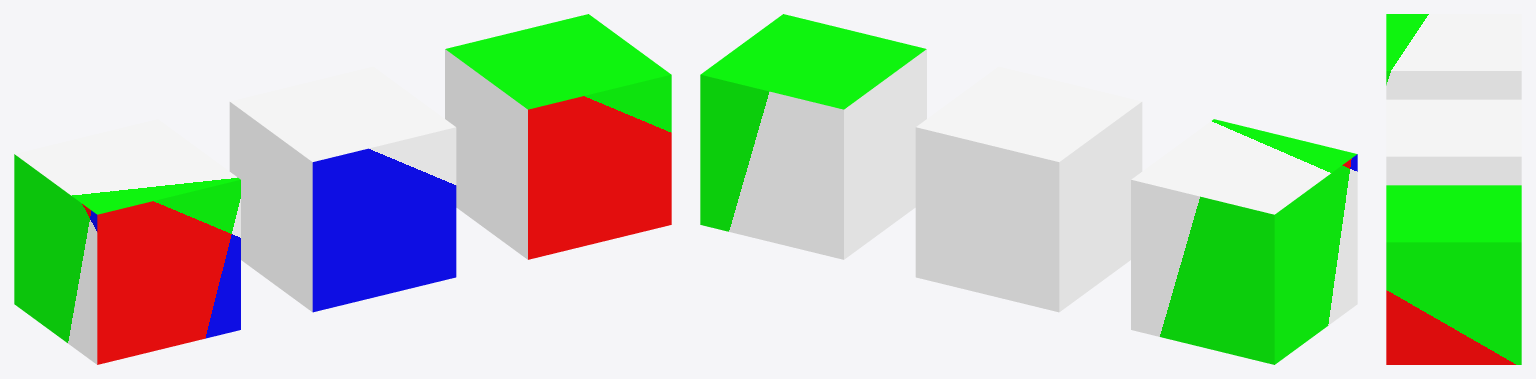
Rendered from texture-assets-reference.glb.
The picture shows the model from 3 angles, left to right: view 1: azimuth 30°, elevation 25°; view 2: azimuth 150°, elevation 25°; view 3: azimuth 270°, elevation 25°; orthographic projection. The views are drawn at different scales.
Visible parts, largest first — view 1: REPEAT, EXTEND, MIRROR; view 2: REPEAT, EXTEND, MIRROR; view 3: MIRROR, EXTEND, REPEAT.
Part boxes in pixels (<box>): REPEAT: <box>14,119,240,364</box>; EXTEND: <box>229,66,456,312</box>; MIRROR: <box>445,14,671,259</box>; REPEAT: <box>1131,119,1357,364</box>; EXTEND: <box>915,66,1142,312</box>; MIRROR: <box>700,14,926,259</box>; MIRROR: <box>1386,185,1521,364</box>; EXTEND: <box>1386,99,1521,185</box>; REPEAT: <box>1386,14,1521,99</box>.
Size of the model in its own units: 8 by 2 by 2.
Materials: 3 (3 with a texture image).
